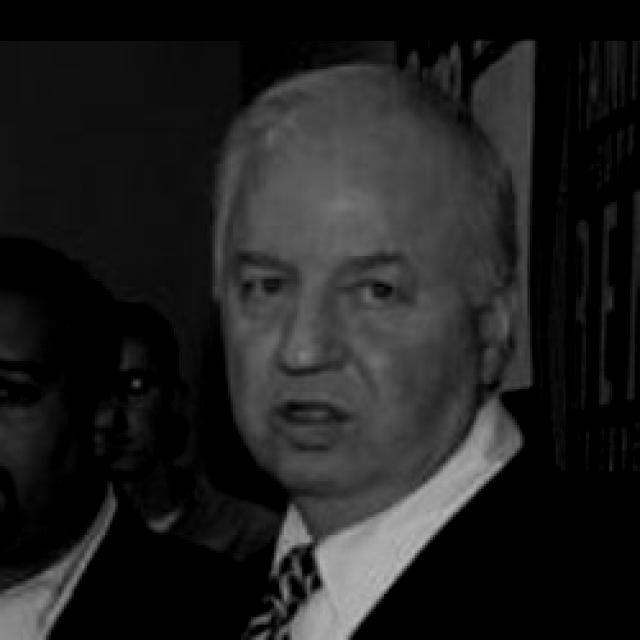real: (225, 99, 500, 491), (237, 258, 420, 320)
